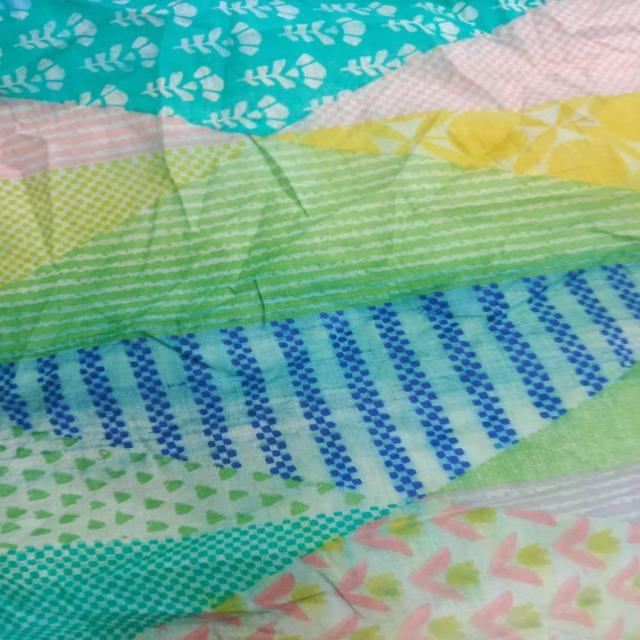color issues: (1, 239, 637, 436)
